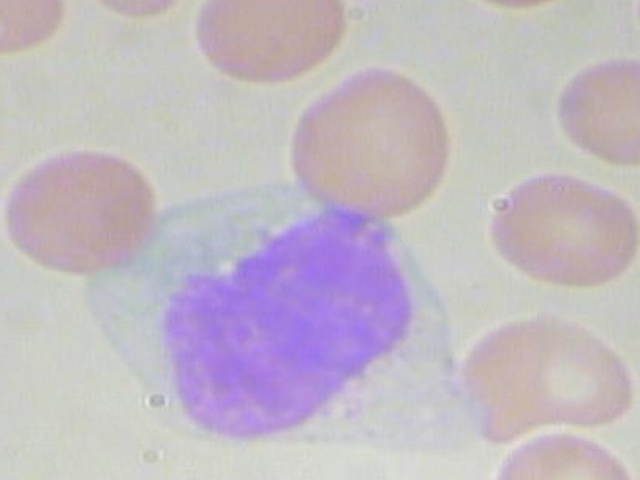RBC: (277, 57, 464, 226), (452, 313, 640, 446), (0, 143, 177, 275), (479, 166, 640, 295), (550, 48, 640, 178), (477, 421, 640, 480), (629, 0, 640, 119), (0, 83, 5, 239)
WBC: (84, 181, 489, 476)
